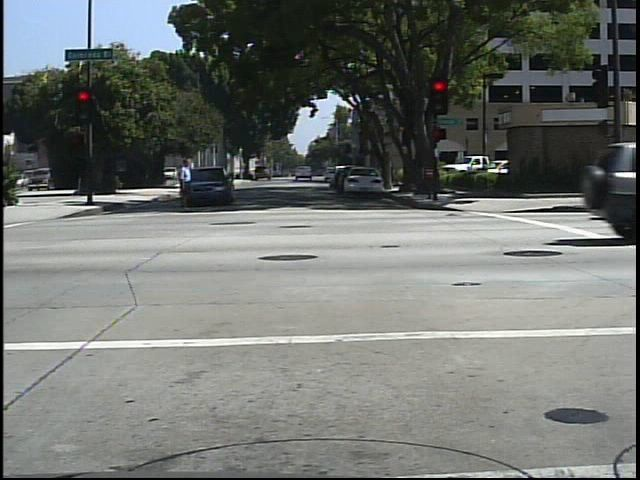person: (589, 144, 620, 210), (170, 156, 198, 213)
